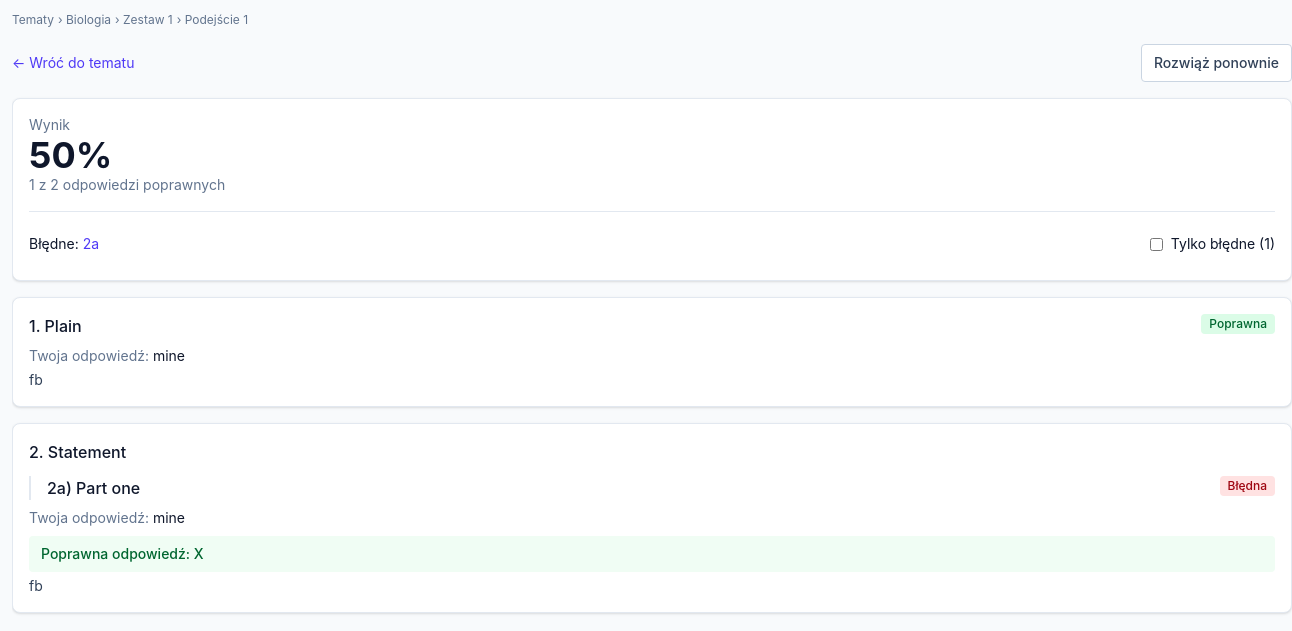
Test: jumps to failed answers and can hide the passed ones
Click the checkbox labelled "Tylko błędne (1)": coordinates (1156, 244) [1150,238,1163,250]
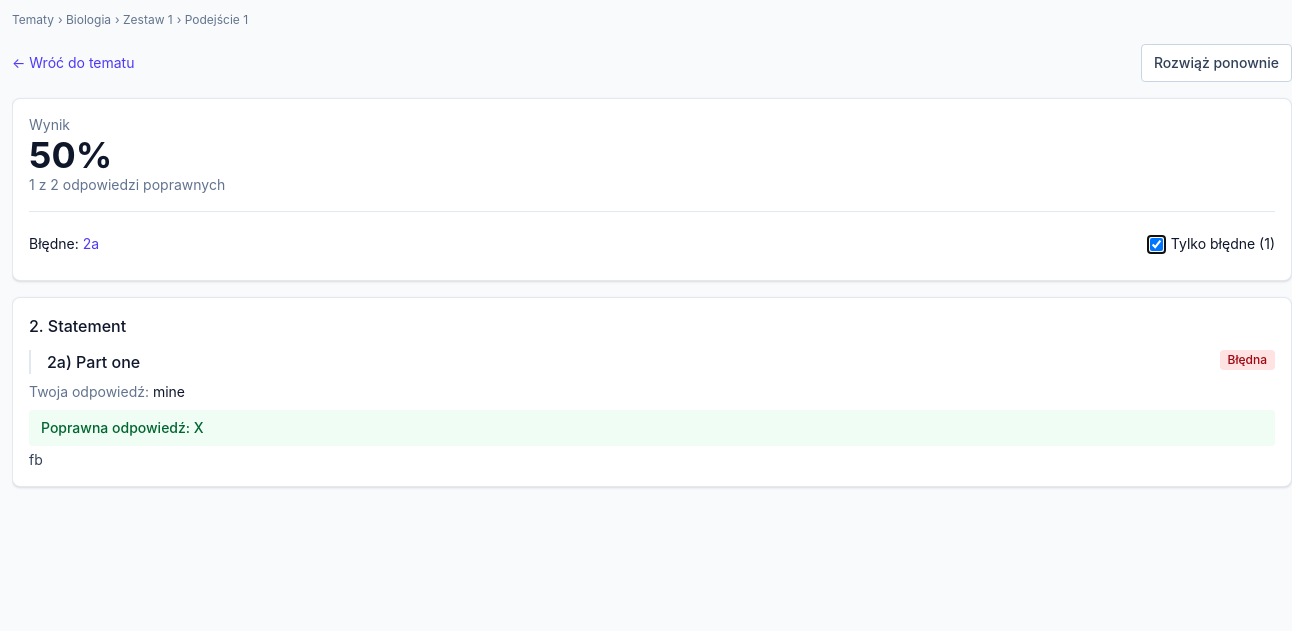
Expected: the text "2a) Part one" is shown, [47,350,140,374]
Now the text "Plain" is gone
